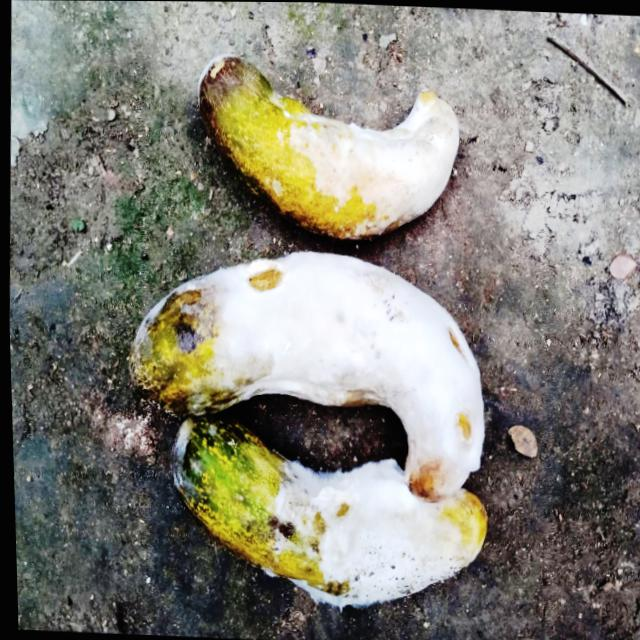Pythium-Fruit-Rot: (197, 241, 498, 476), (263, 451, 466, 612), (282, 91, 466, 236), (191, 47, 238, 101)
